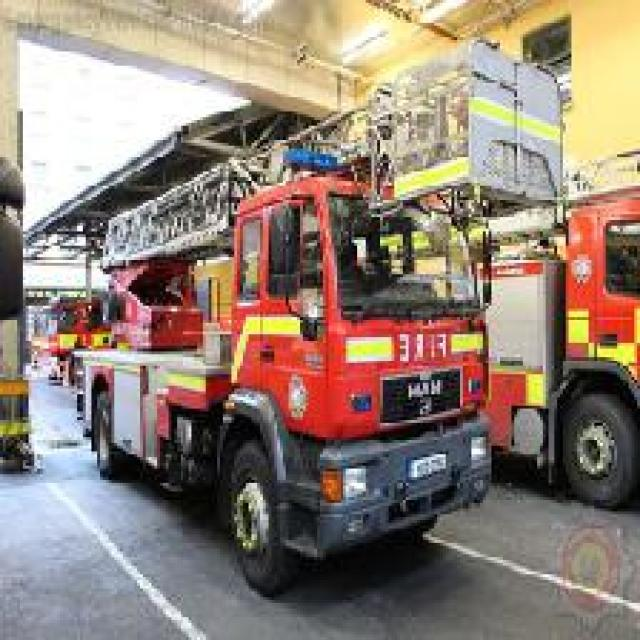Fire-truck: (100, 77, 607, 598)
